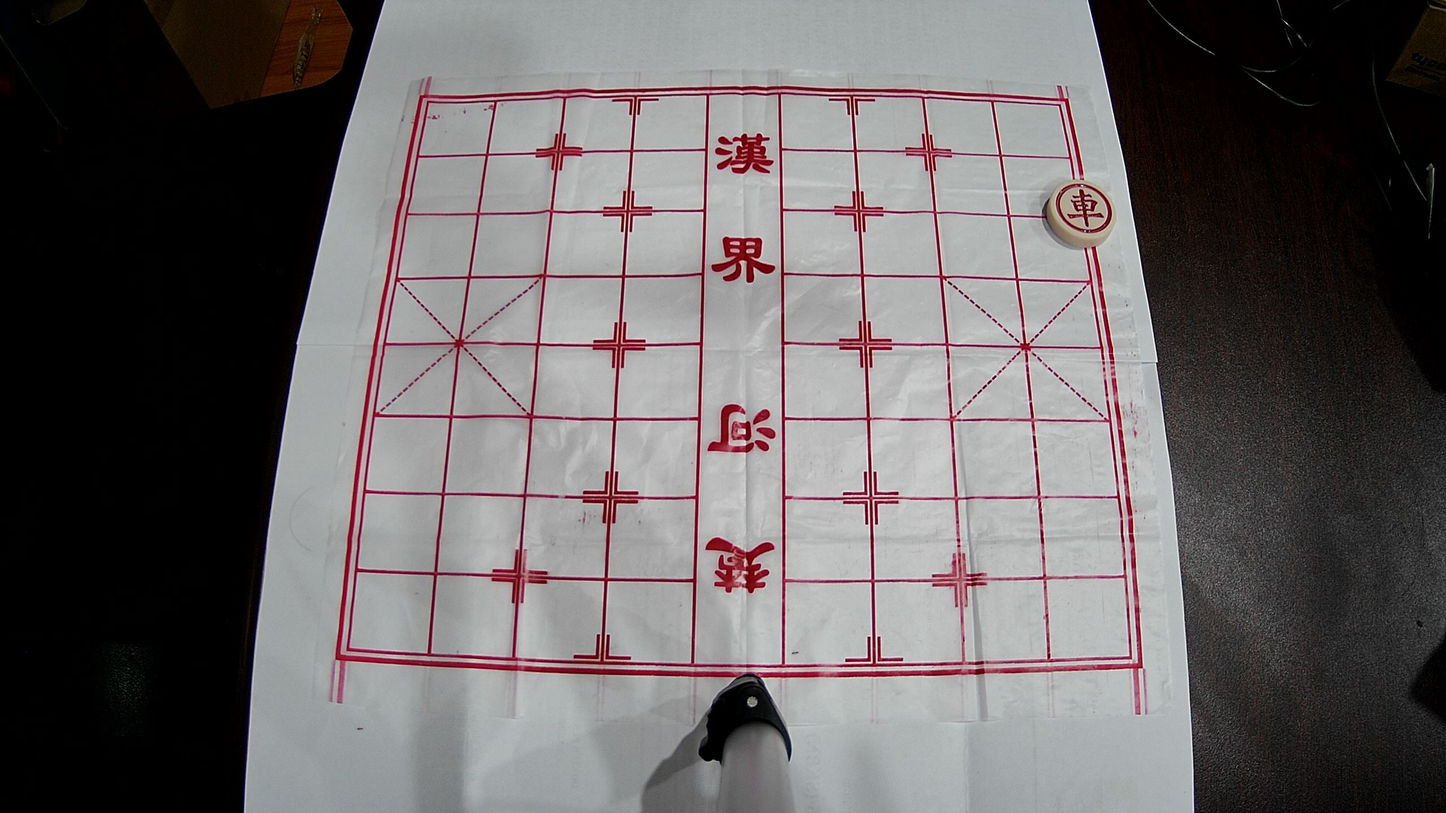Red-Chariot: (1047, 180, 1116, 248)
